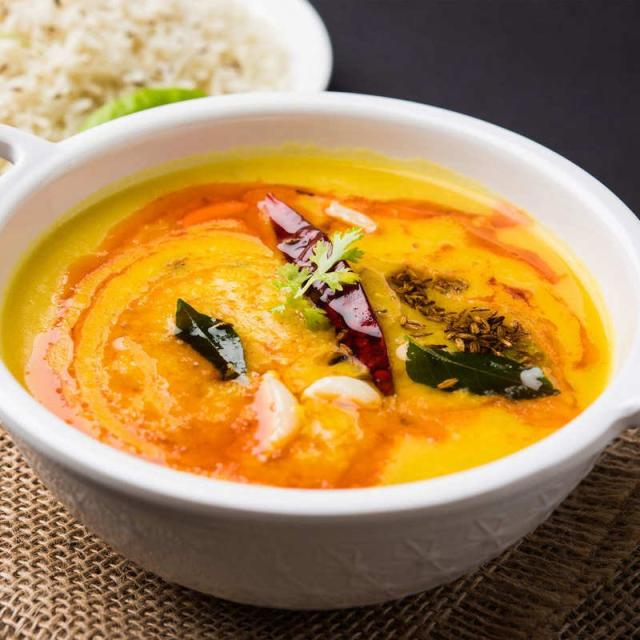dal: (52, 199, 573, 446)
